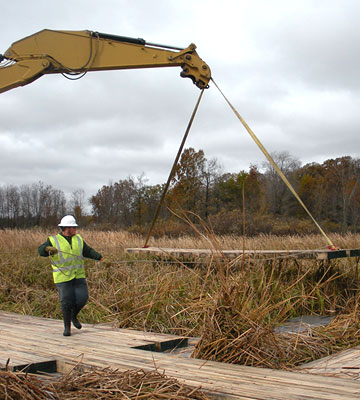SAFE: (48, 212, 87, 283)
